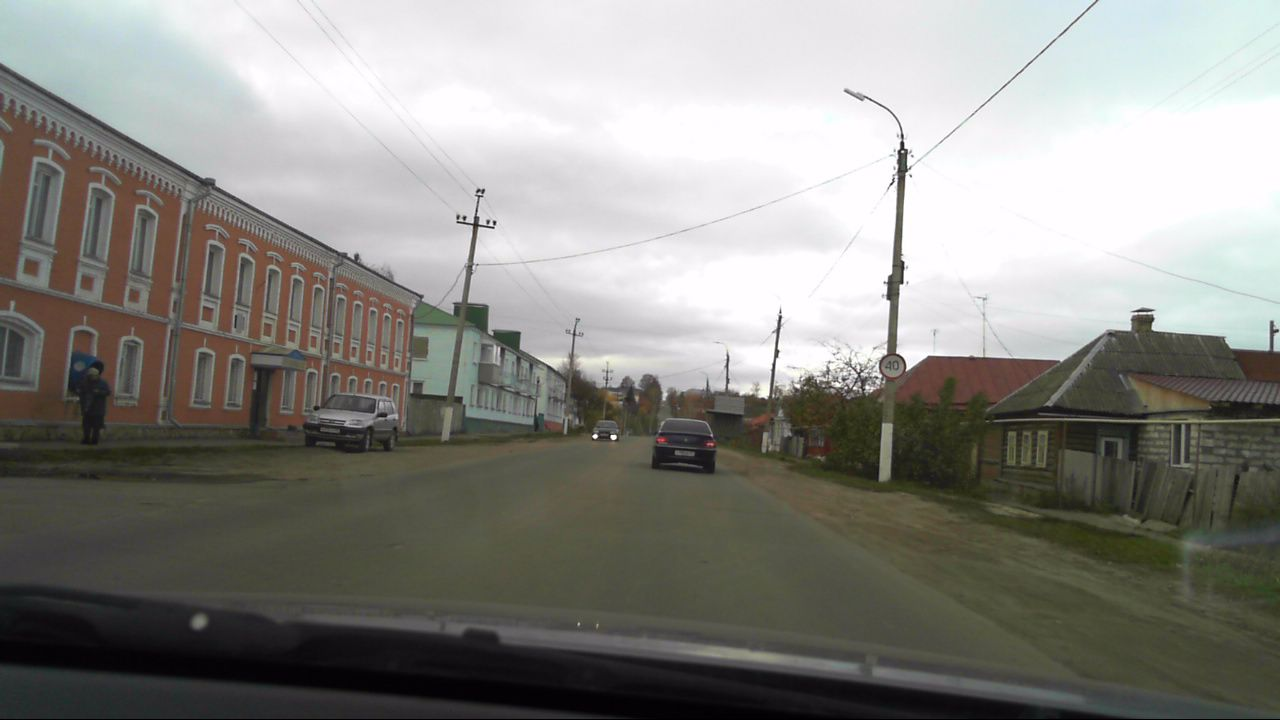speed_warning_40: (877, 353, 908, 380)
